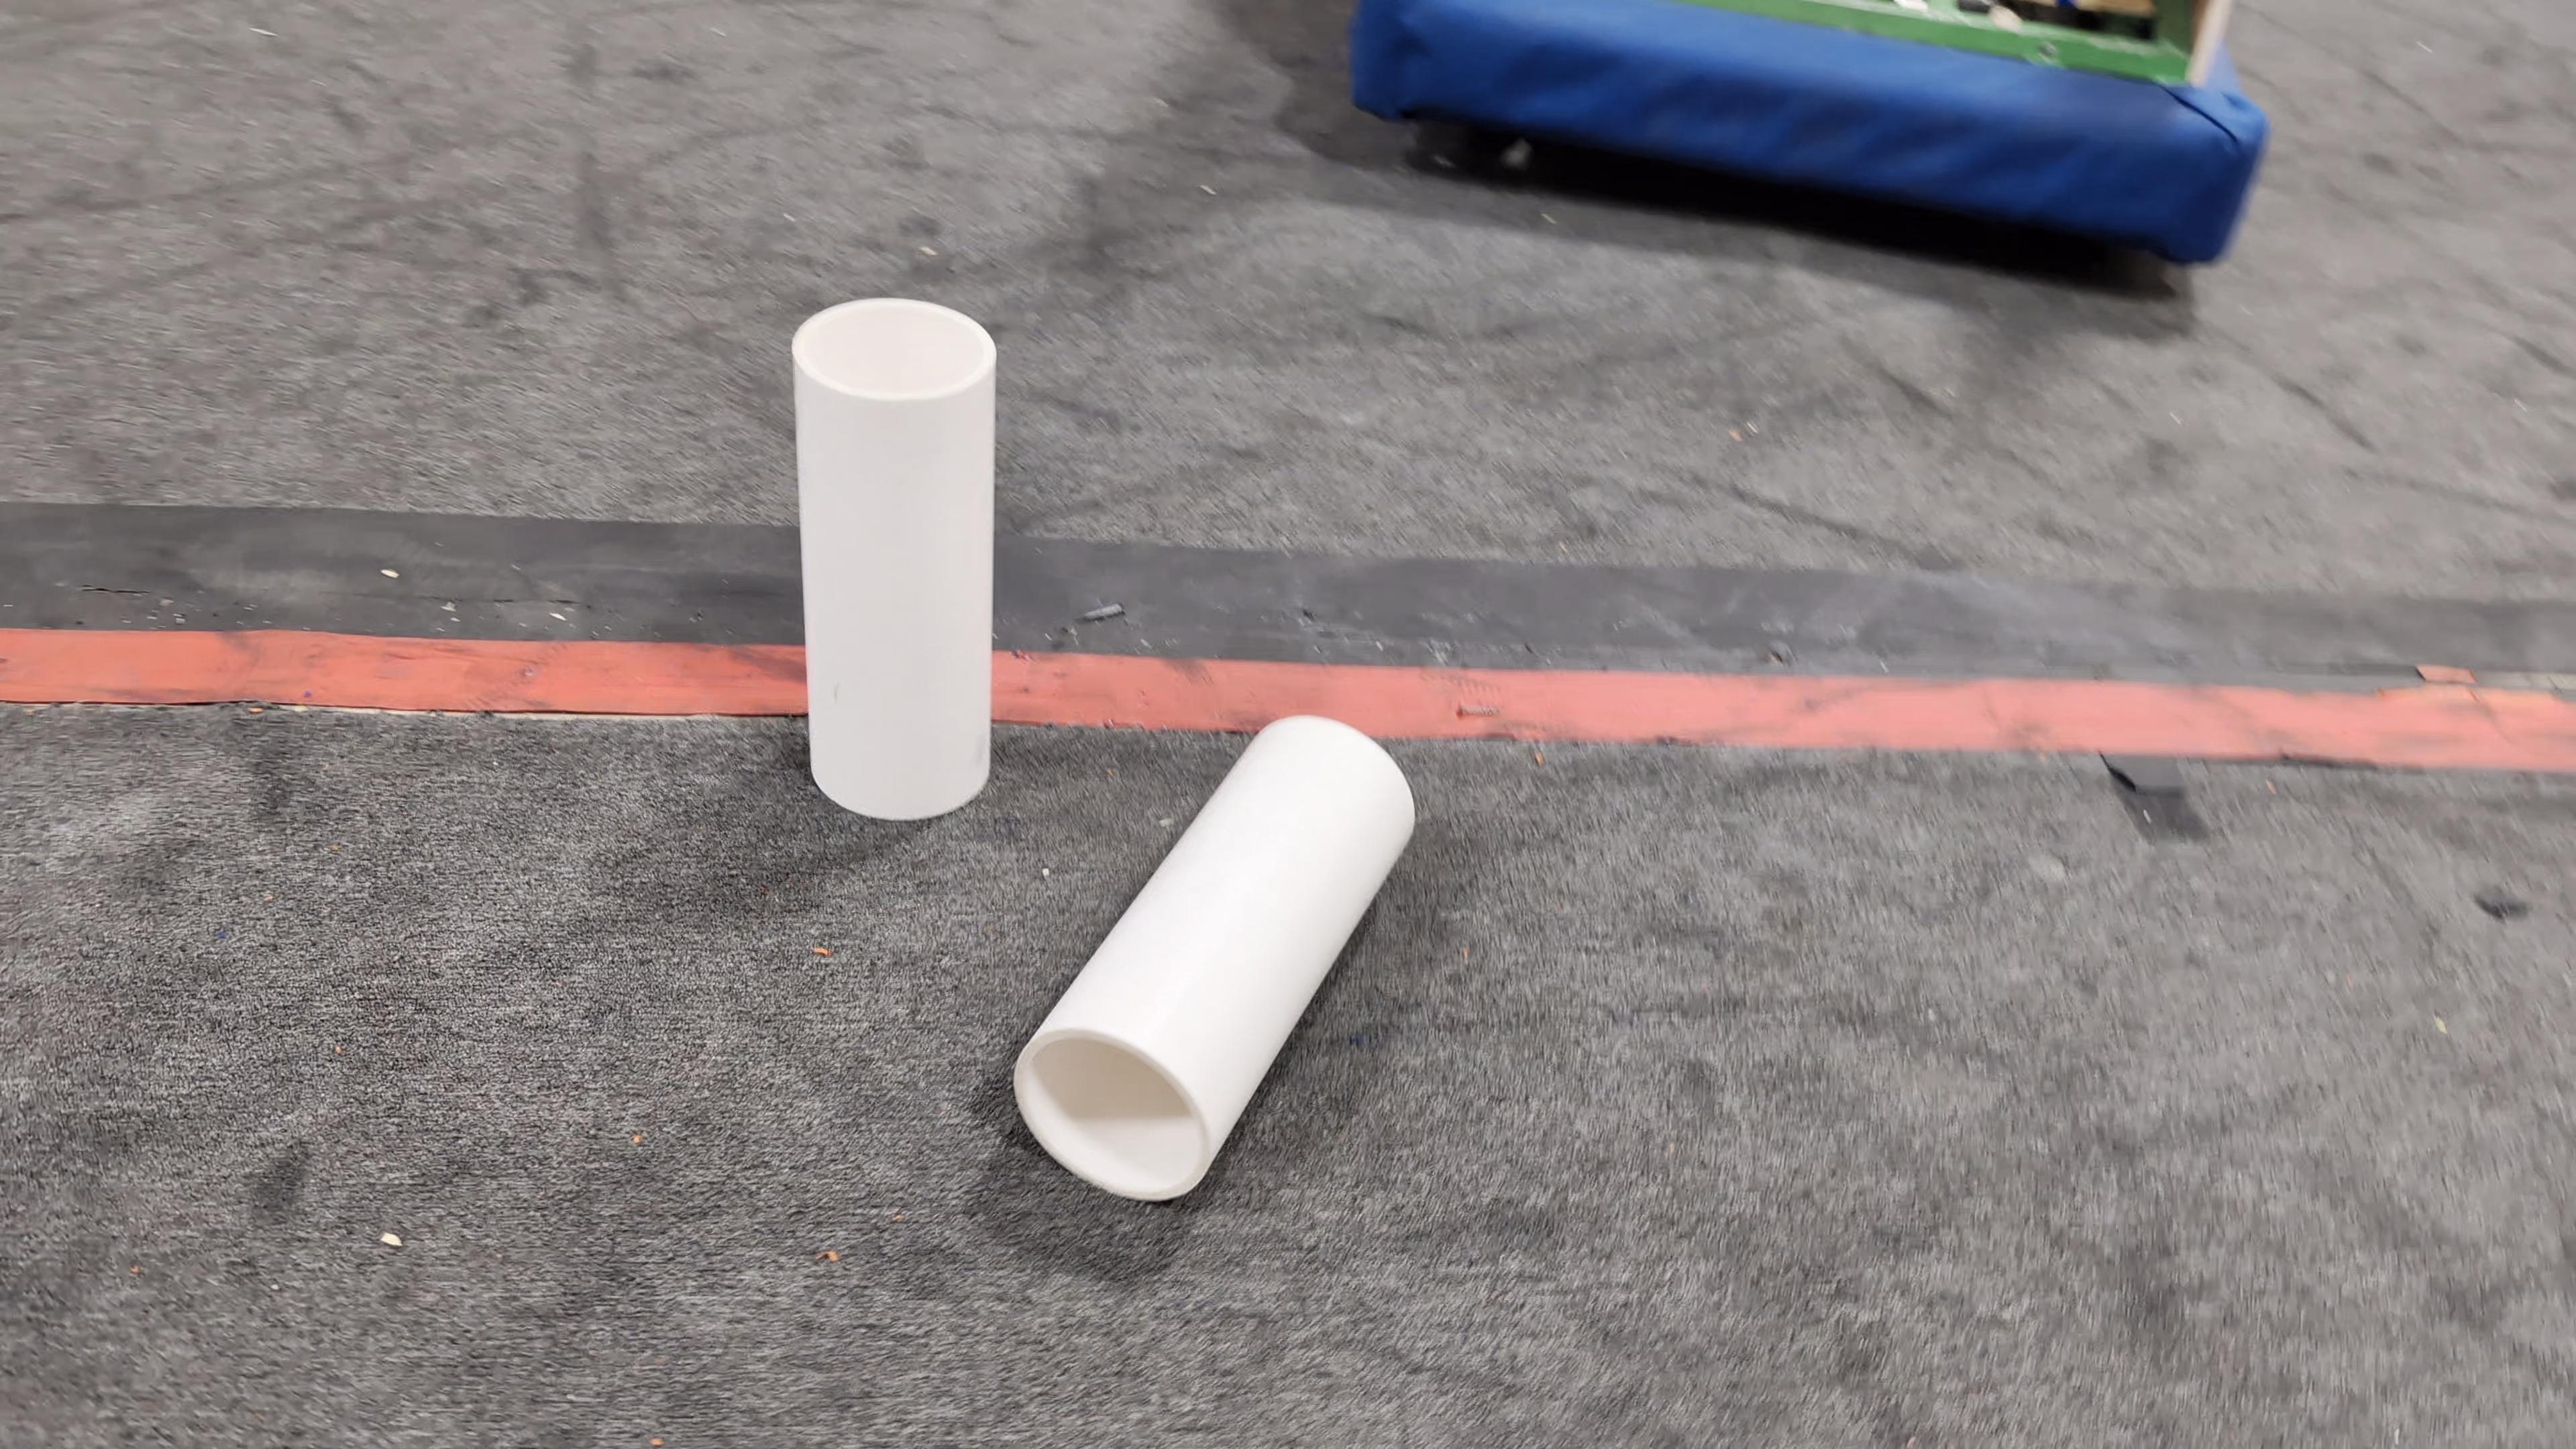coral: (1010, 709, 1419, 1201), (786, 294, 1003, 819)
